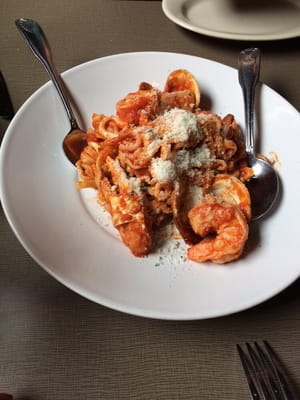burger: (237, 47, 282, 223), (235, 339, 296, 400)
salad: (15, 17, 88, 132), (237, 47, 282, 223)
